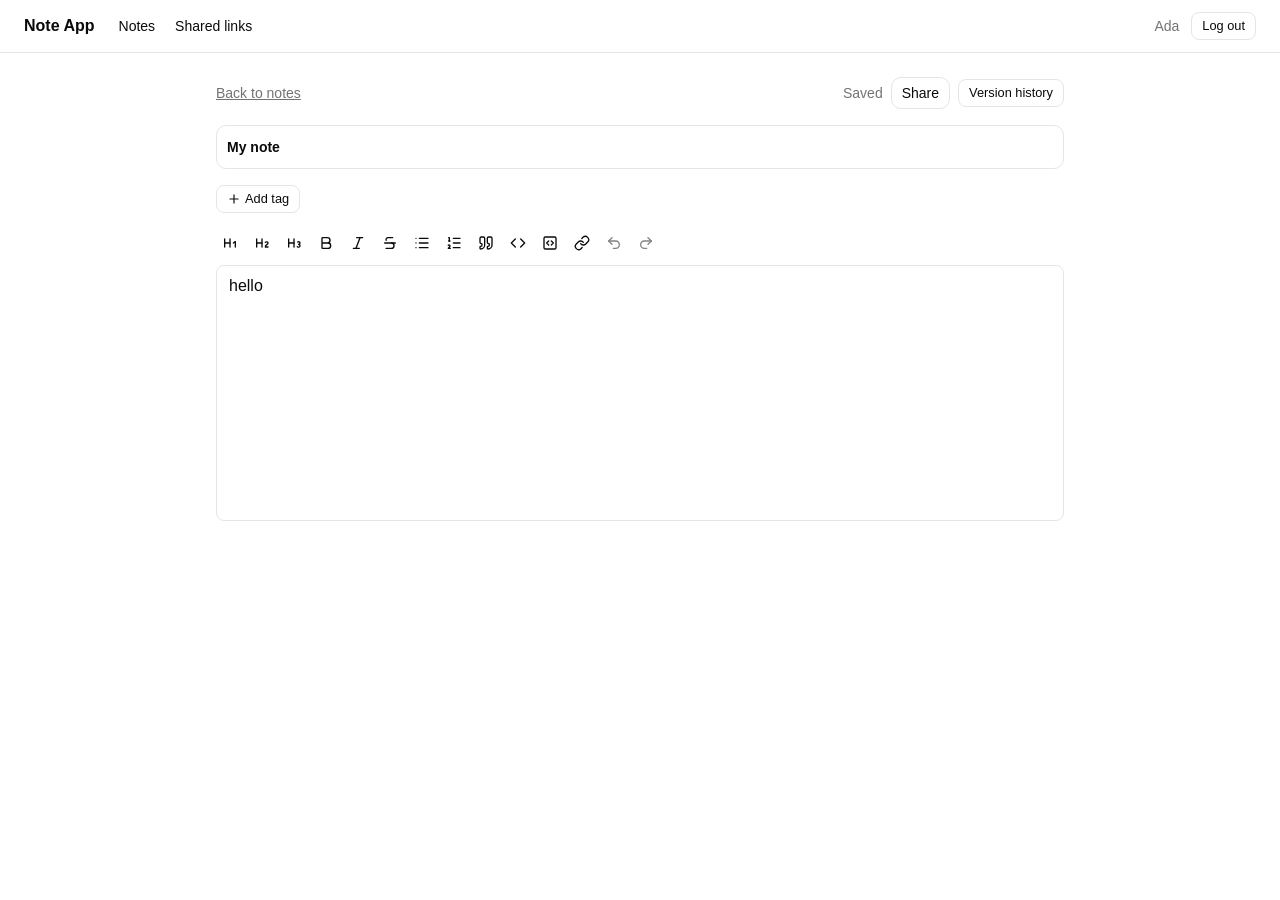
Test case: version history in the editor › S-AB1015-06: an expired session is refreshed once then redirected to login
Click the button "Version history": click(1011, 93) [958,79,1064,107]
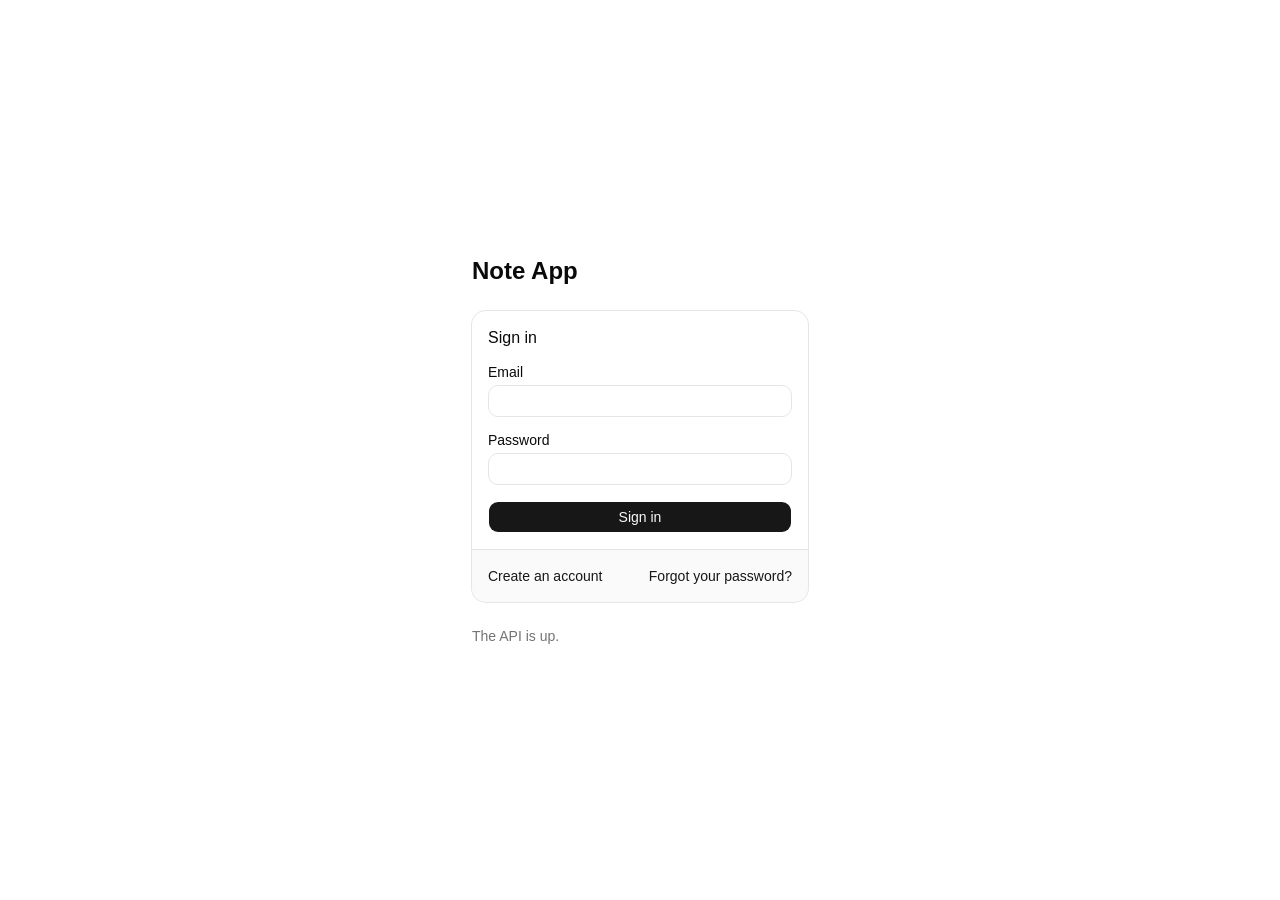
Expected: the heading "Sign in" is shown, [488,328,537,346]
